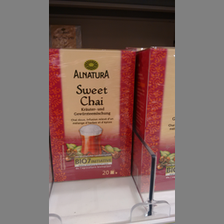tea: (50, 48, 136, 184)
